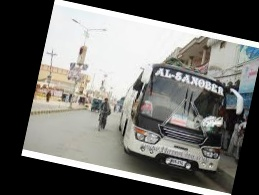bus: (112, 51, 246, 182)
